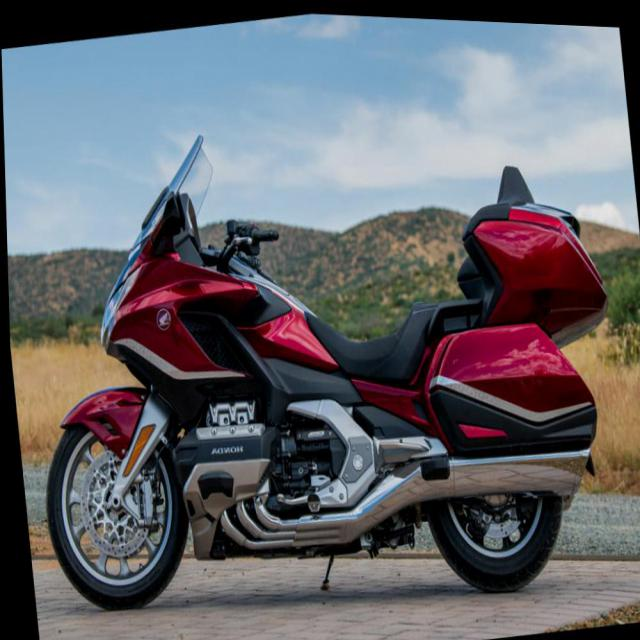Gold Wing: (5, 62, 636, 639)
